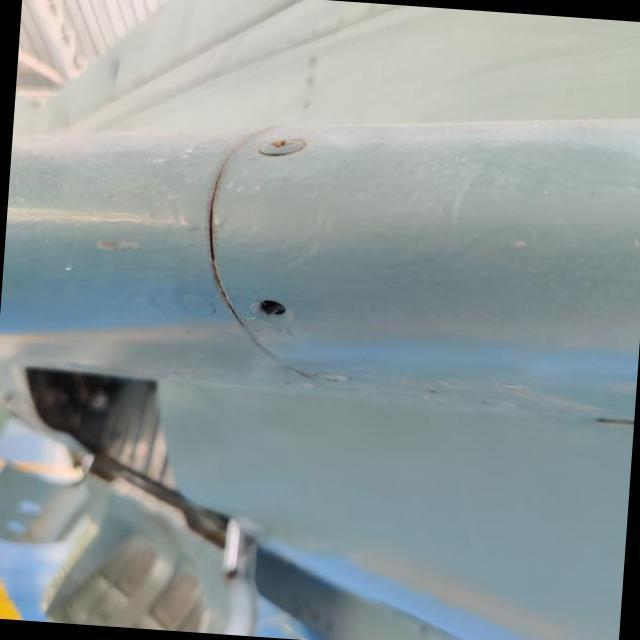Missing Fastener: (251, 297, 291, 319)
